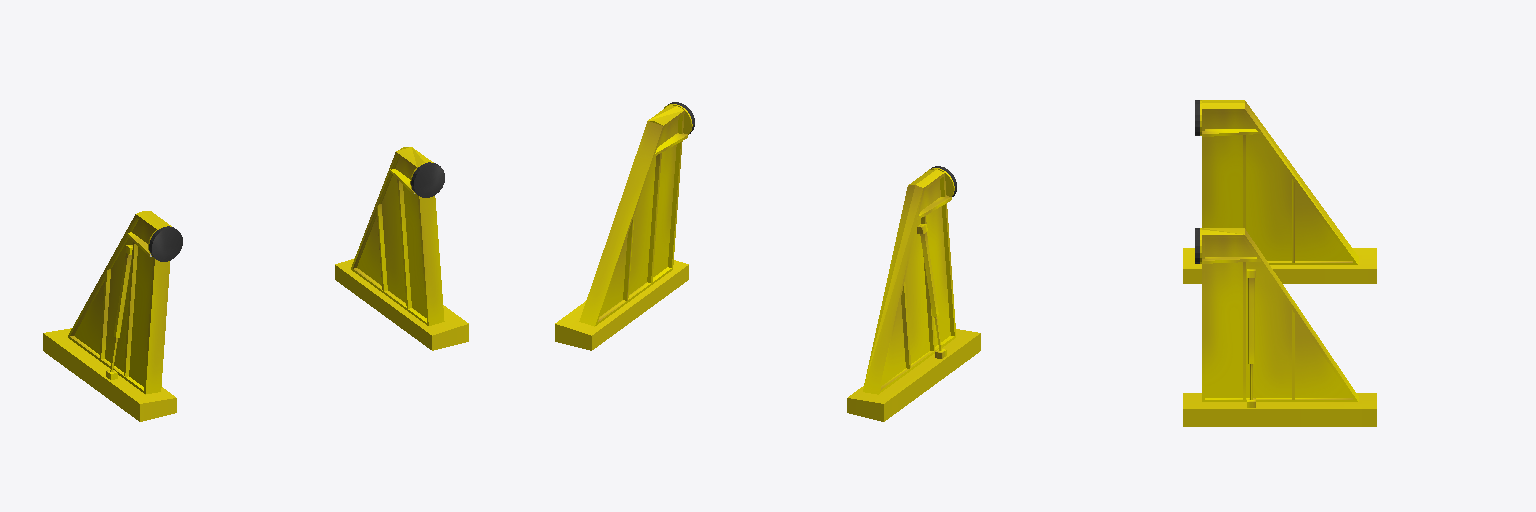
3 views of the same model, side by side, from view 1: azimuth 30°, elevation 25°; view 2: azimuth 150°, elevation 25°; view 3: azimuth 270°, elevation 25° (orthographic).
Parts seen in each view (by area): view 1: bumper; view 2: bumper; view 3: bumper.
Boxes of the visible parts, box(x1,y1,x2,y2) form: bumper: box(43, 147, 468, 421); bumper: box(555, 102, 980, 421); bumper: box(1183, 100, 1376, 426).
Bounding box in the file's own units: 2.1 × 1.1 × 1.07.
5 materials, 3 textured.